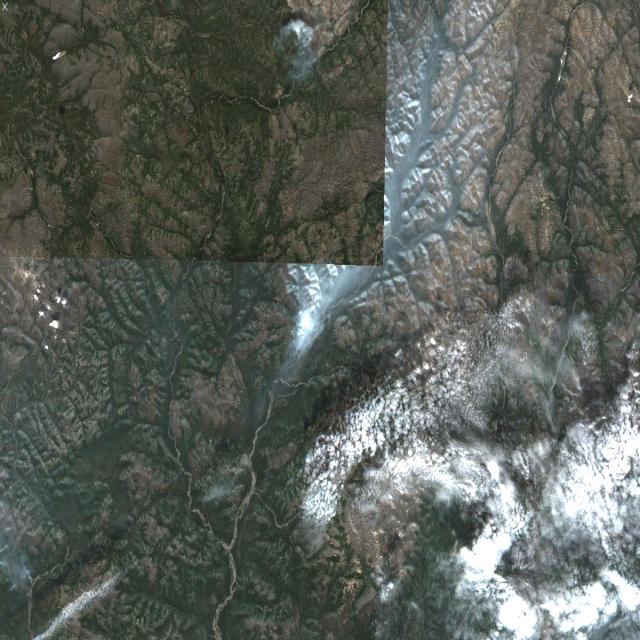fire: (285, 312, 315, 364)
